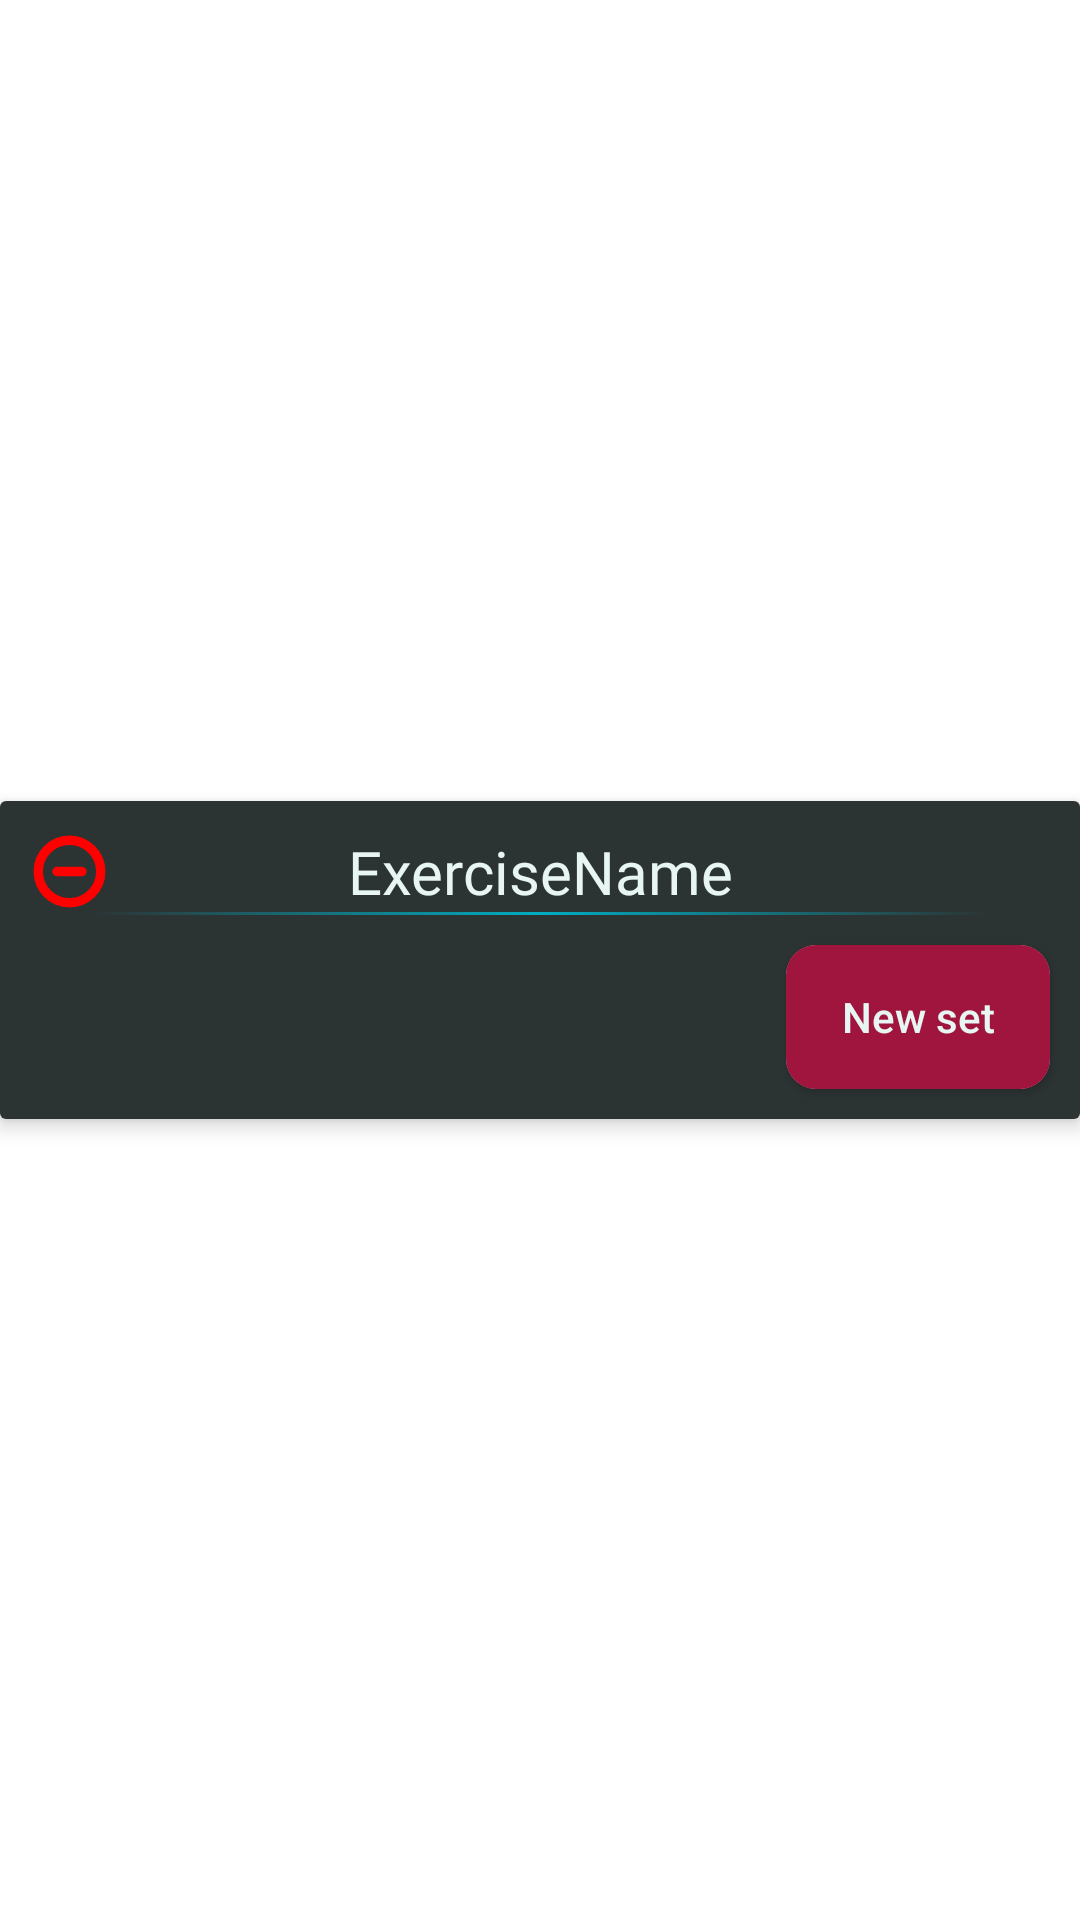

Named icons in this screenshot (1080w x 1920h) and their centers, (x=x, y=y):
remove: (x=69, y=871)
